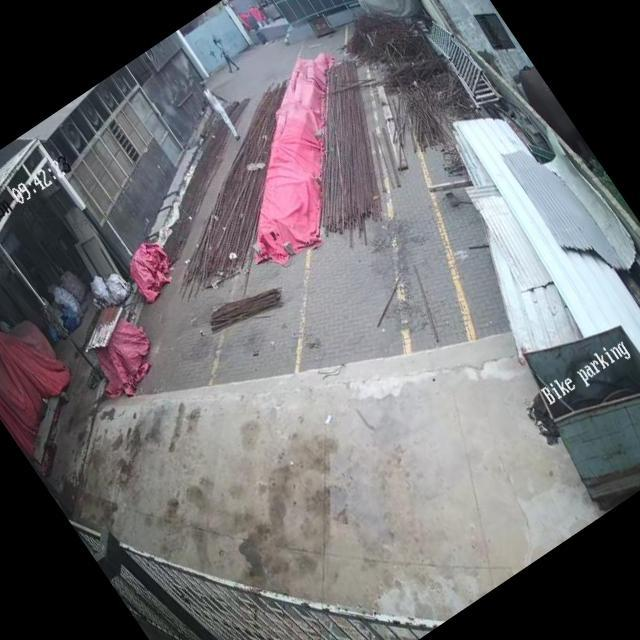person: (193, 76, 246, 144)
